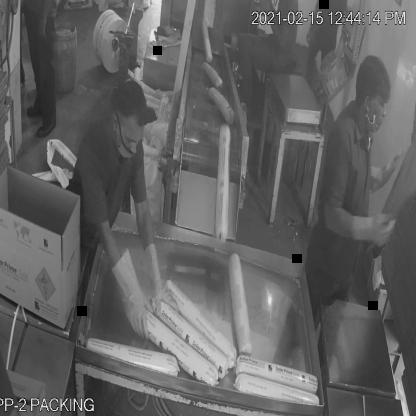glove: (108, 242, 154, 347), (130, 233, 182, 324), (345, 201, 400, 255), (367, 138, 405, 202)
no_glove: (262, 0, 294, 47), (31, 0, 59, 47)
